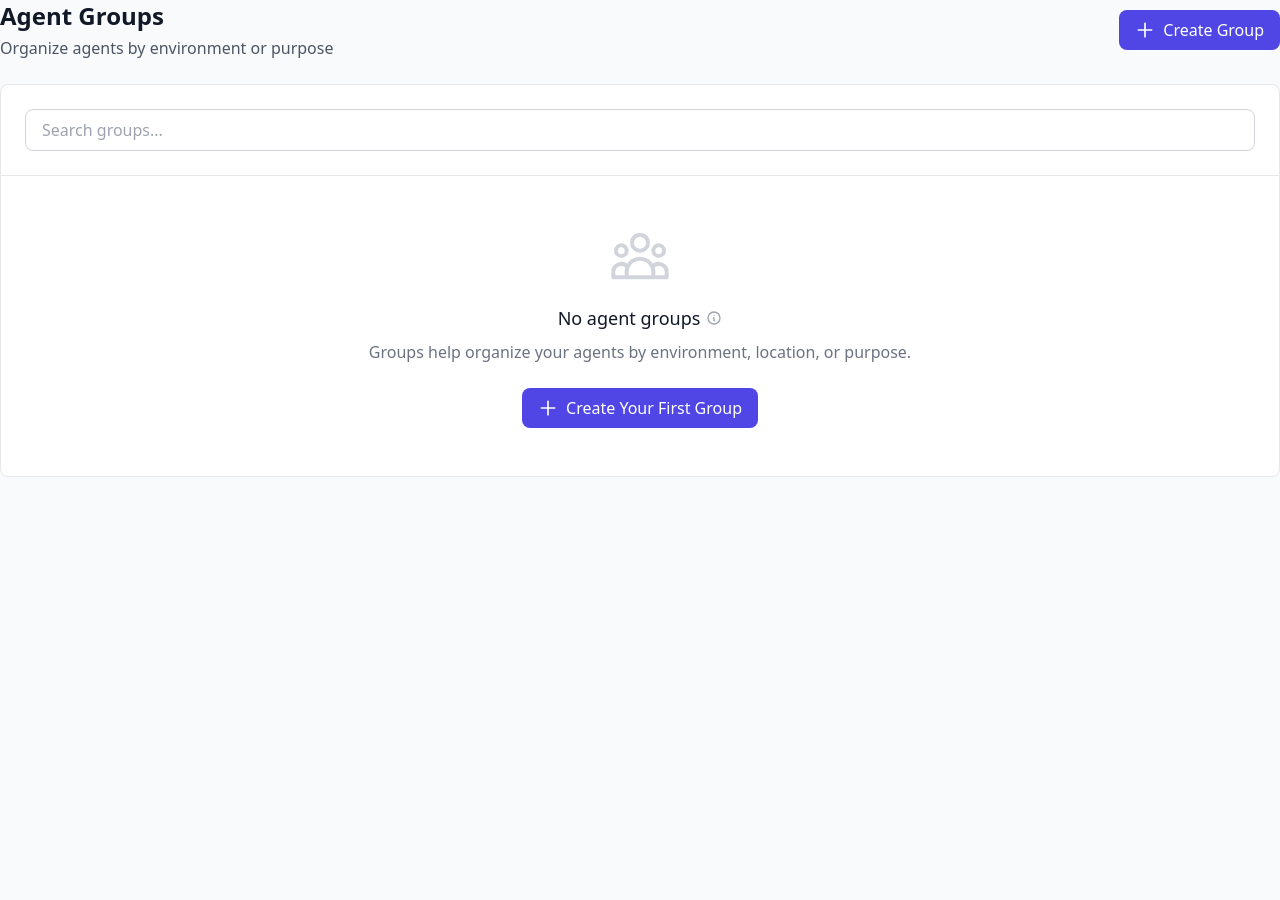
it: AgentGroups › opens create modal
The width and height of the screenshot is (1280, 900).
Click the button "Create Group".
click(1200, 30)  # box [1119,10,1279,50]
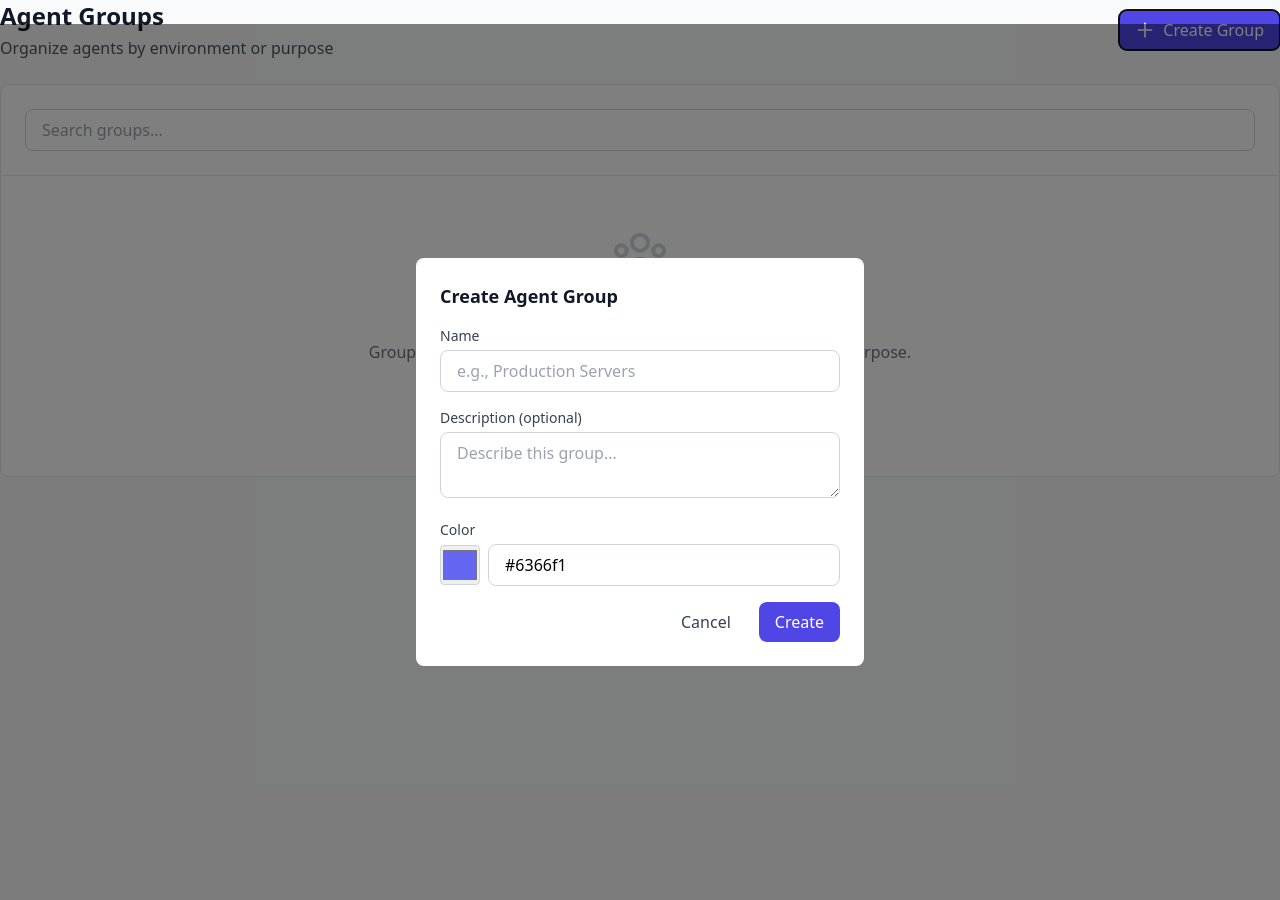
Result: the heading "Create Agent Group" is shown at [440,284,618,308]
